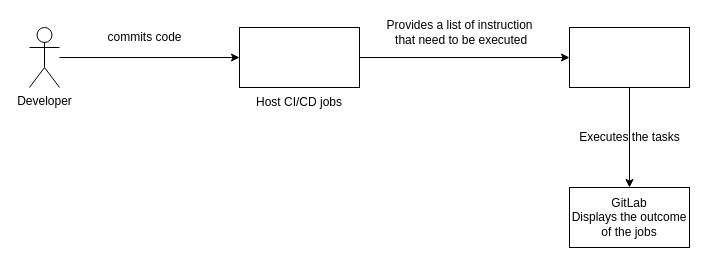
This 707x265 diagram has some shape labels left out. The shapes that lost their labels are listed below. From the top down, each one's box as (x1, y1, x2, y2) in pixels, then its label:
(238, 26, 360, 88): Version Control Environment GitLab
(568, 26, 690, 88): Docker/ Shell GitLab Runner
